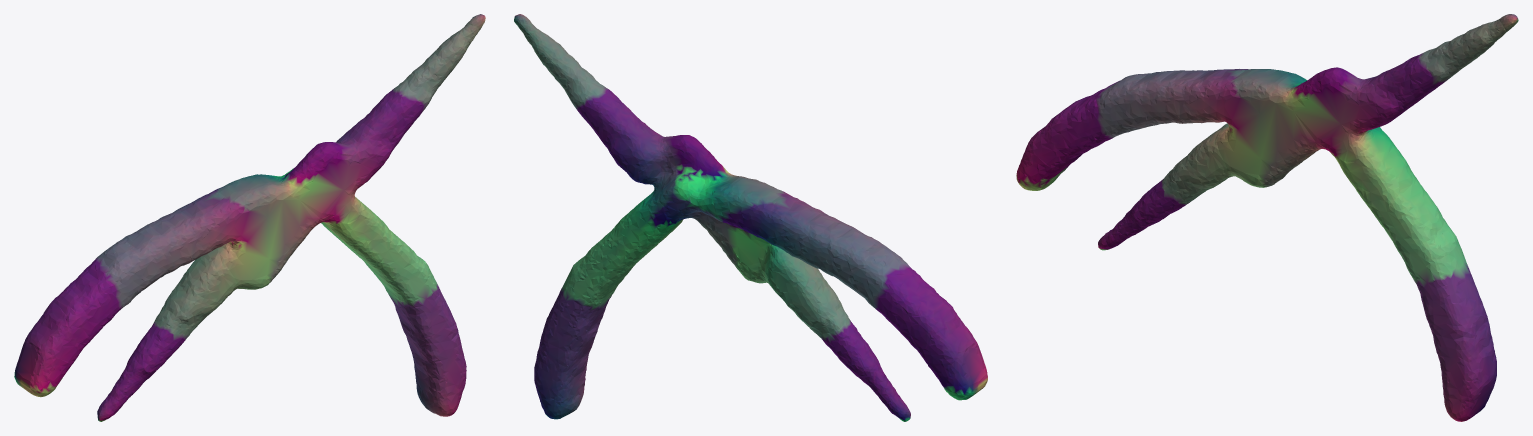
Rendered from pliers-6.off.obj.
The picture shows the model from 3 angles, left to right: view 1: azimuth 30°, elevation 25°; view 2: azimuth 150°, elevation 25°; view 3: azimuth 330°, elevation 25°; orthographic projection. The views are drawn at different scales.
Size of the model in its own units: 1.47 by 1.17 by 0.1501.
